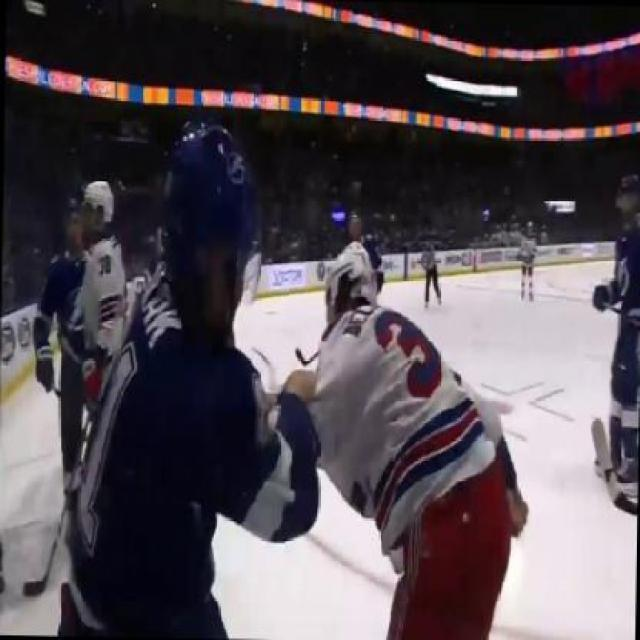fight: (69, 111, 385, 638), (162, 226, 536, 639)
non-fight: (582, 169, 638, 508)
